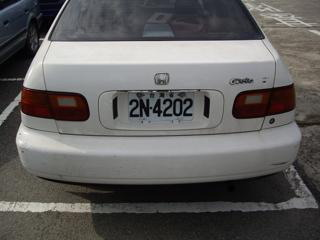plate: (126, 90, 194, 122)
